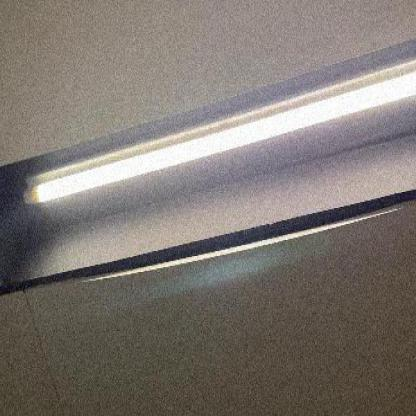light_on: (17, 17, 416, 241)
